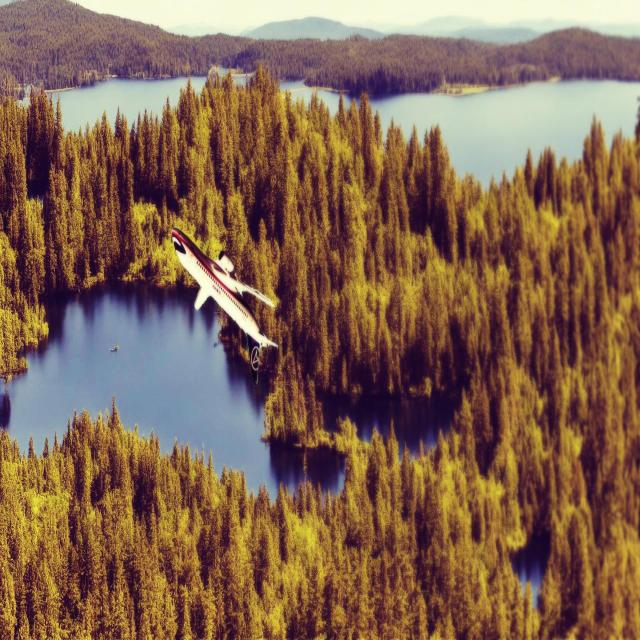airplane: (170, 226, 278, 386)
